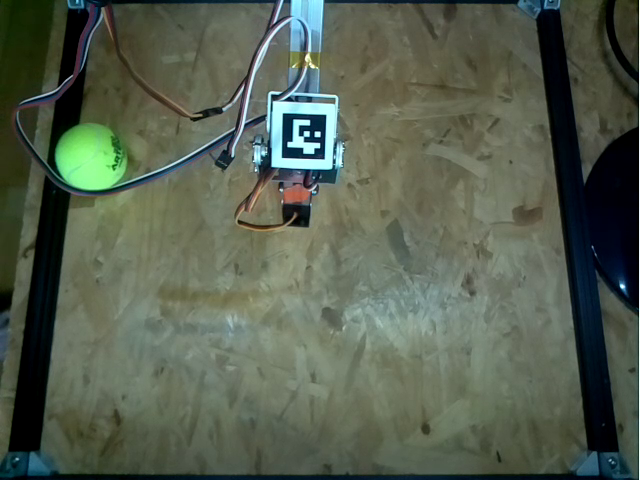tennis_ball: (55, 122, 128, 190)
